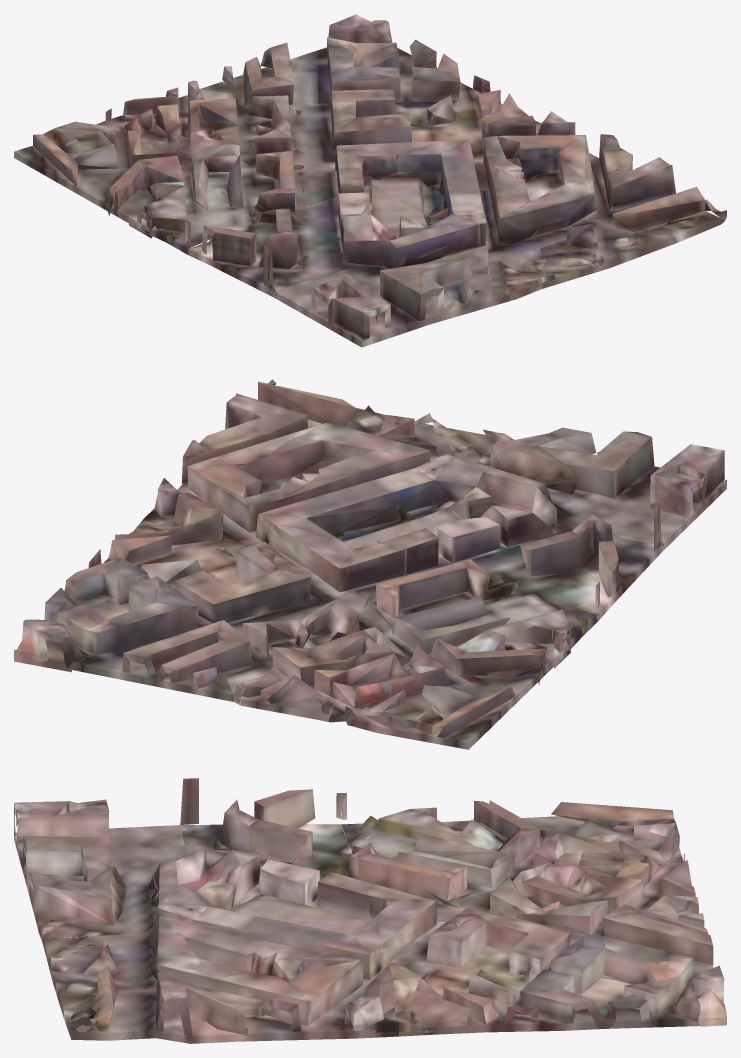
The picture shows the model from 3 angles, top to bottom: view 1: azimuth 30°, elevation 25°; view 2: azimuth 150°, elevation 25°; view 3: azimuth 270°, elevation 25°; orthographic projection. The views are drawn at different scales.
Visible parts, largest first — view 1: Mesh_0; view 2: Mesh_0; view 3: Mesh_0.
Part boxes in pixels (<box>): Mesh_0: <box>14,14,726,347</box>; Mesh_0: <box>14,379,726,749</box>; Mesh_0: <box>14,778,726,1043</box>.
Bounding box in the file's own units: 540 × 69.27 × 659.
Materials: 2 (2 with a texture image).
